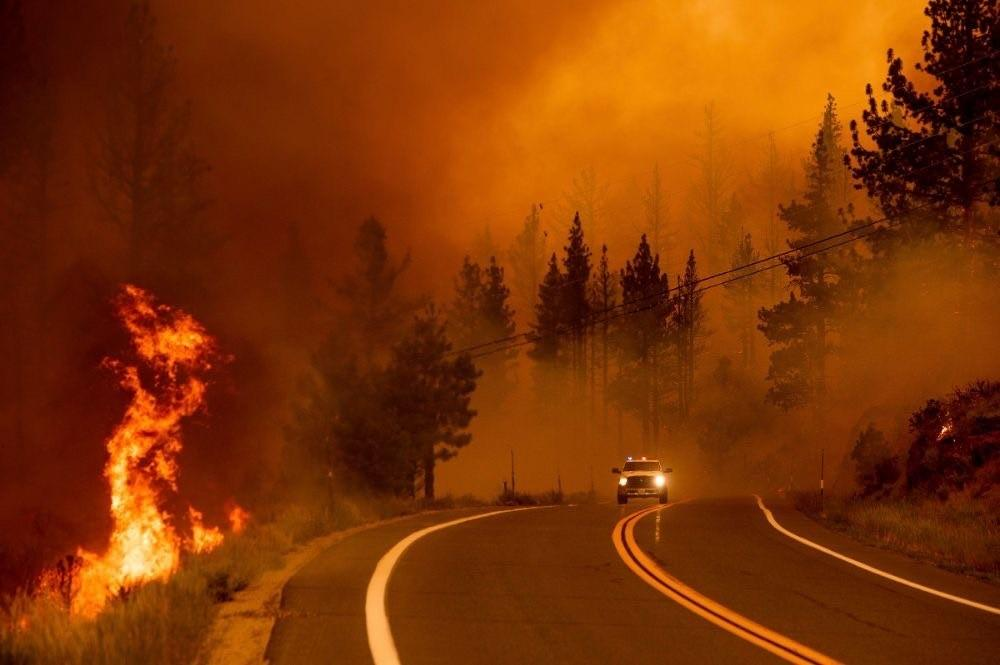fire: (17, 221, 313, 642)
